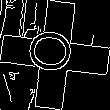O_E: (27, 30, 83, 80)
